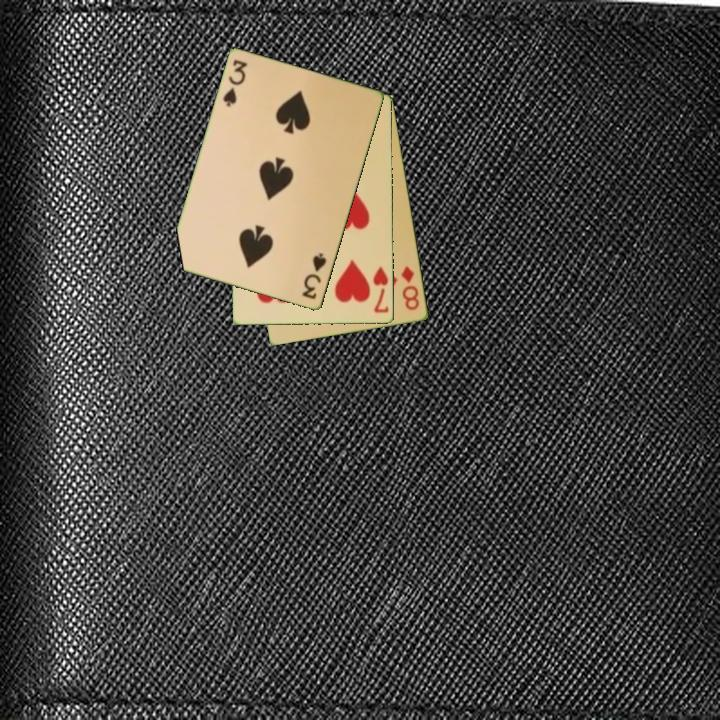3s: (299, 249, 330, 303), (220, 56, 250, 110)
7h: (370, 263, 392, 316)
8d: (398, 263, 423, 313)
